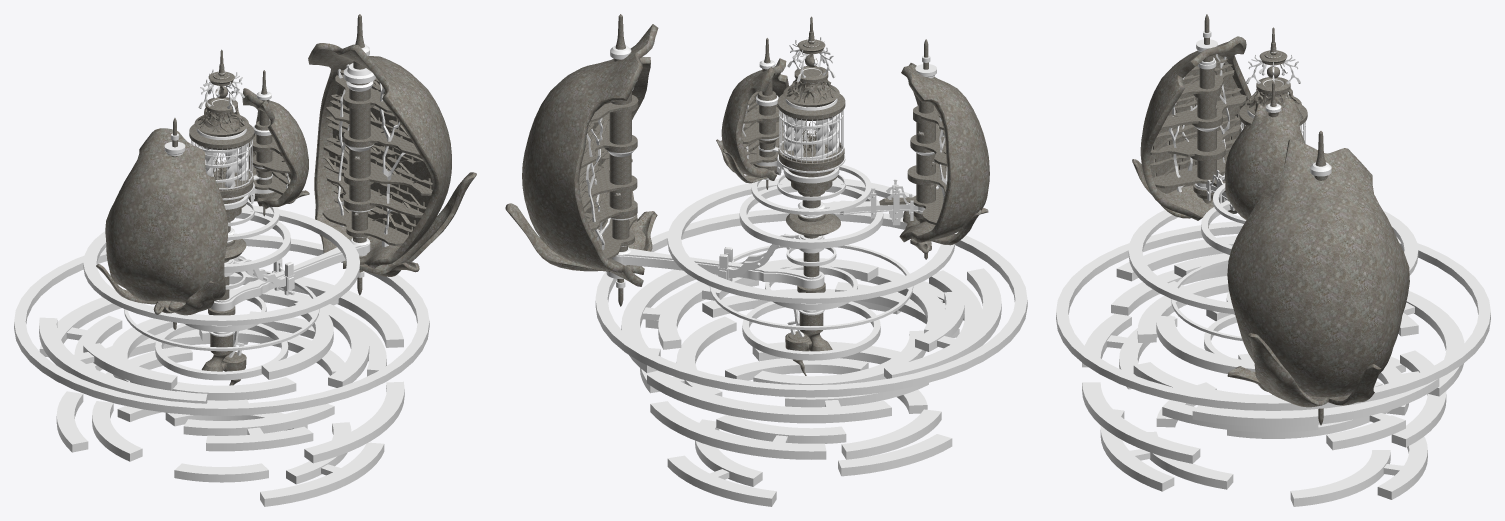
The picture shows the model from 3 angles, left to right: view 1: azimuth 30°, elevation 25°; view 2: azimuth 150°, elevation 25°; view 3: azimuth 270°, elevation 25°; orthographic projection. The views are drawn at different scales.
Parts seen in each view (by area): view 1: mg_12_gears, mg_12_cage_large, mg_12_rings, mg_12_cage_middle, mg_12, mg_12_cage_small; view 2: mg_12_gears, mg_12_cage_large, mg_12_rings, mg_12_cage_middle, mg_12, mg_12_cage_small; view 3: mg_12_cage_large, mg_12_gears, mg_12_rings, mg_12_cage_middle, mg_12_cage_small, mg_12.
Boxes of the visible parts, x1,y1,x2,y2 form: mg_12_gears: (39,271,404,506); mg_12_cage_large: (211,14,476,311); mg_12_rings: (14,201,429,415); mg_12_cage_middle: (96,118,234,329); mg_12: (189,49,254,385); mg_12_cage_small: (222,70,309,216); mg_12_gears: (621,258,1001,506); mg_12_cage_large: (505,14,824,306); mg_12_rings: (595,164,1027,397); mg_12_cage_middle: (798,39,989,259); mg_12: (777,16,845,375); mg_12_cage_small: (716,38,845,189); mg_12_cage_large: (1227,131,1409,425); mg_12_gears: (1082,235,1464,506); mg_12_rings: (1056,183,1490,410); mg_12_cage_middle: (1132,14,1251,228); mg_12_cage_small: (1225,81,1305,219); mg_12: (1239,27,1307,394).
Bounding box in the file's own units: 56886 × 52657 × 48162.
